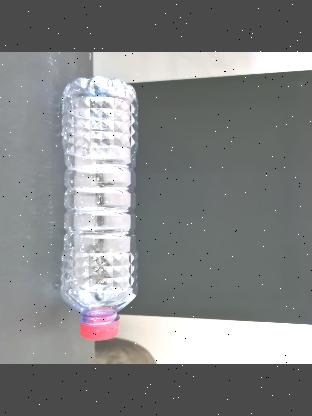Plastic Bottle: (59, 76, 137, 340)
